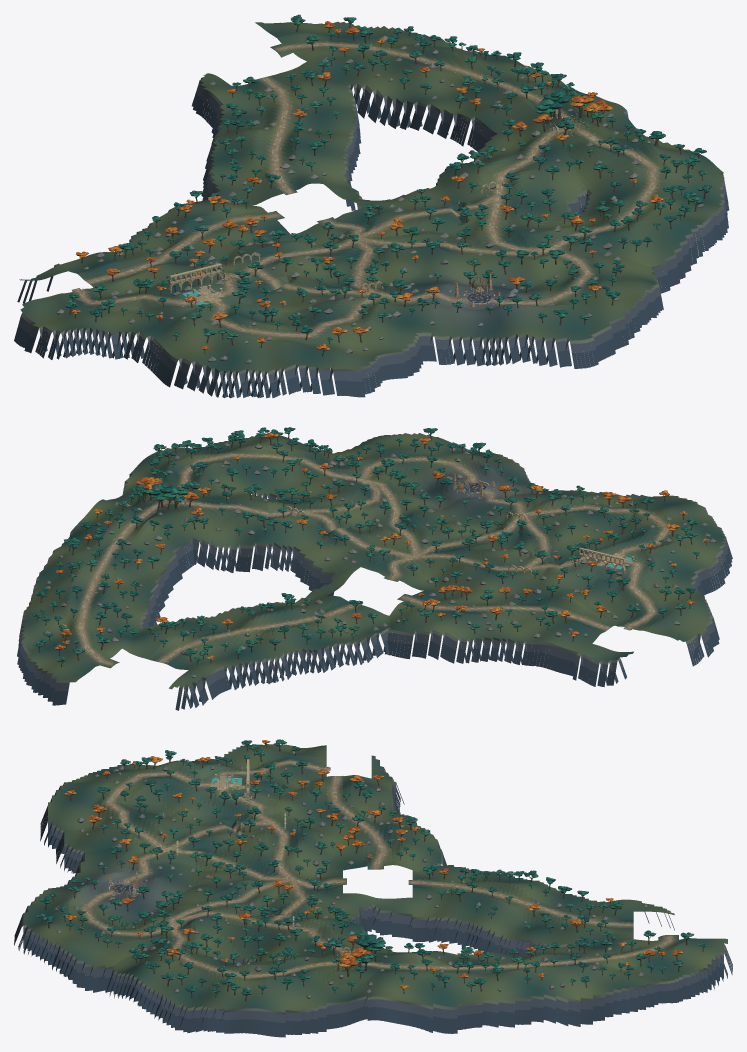
The model's file is outer_land_3.glb.
3 views of the same model, one above another, from view 1: azimuth 30°, elevation 25°; view 2: azimuth 150°, elevation 25°; view 3: azimuth 270°, elevation 25° (orthographic). The views are drawn at different scales.
Parts seen in each view (by area): view 1: Ground_14_14-col, Ground_5_15-col, Ground_14_12-col, Detail_3_12, Ground_14_11-col, Ground_9_15-col, Ground_11_16-col, Ground_10_13-col, Ground_12_11-col, Ground_10_16-col, Ground_8_15-col, Detail_10_16 (+110 smaller); view 2: Detail_12_10, Ground_13_10-col, Ground_14_8-col, Detail_6_9, Detail_8_8, Ground_5_11-col, Ground_14_13-col, Detail_9_7, Detail_5_9, Ground_14_9-col, Detail_4_9, Ground_6_11-col (+116 smaller); view 3: Detail_16_12, Detail_15_5, Detail_16_11, Detail_16_13, Detail_16_8, Ground_15_6-col, Detail_16_7, Ground_11_7-col, Detail_16_10, Ground_6_14-col, Detail_11_8, Ground_13_15-col (+109 smaller).
Part boxes in pixels (x1=…): Ground_14_14-col: x1=617, y1=206, x2=688, y2=255; Ground_5_15-col: x1=212, y1=333, x2=286, y2=371; Ground_14_12-col: x1=558, y1=159, x2=633, y2=214; Detail_3_12: x1=35, y1=302, x2=106, y2=359; Ground_14_11-col: x1=532, y1=138, x2=605, y2=180; Ground_9_15-col: x1=403, y1=301, x2=477, y2=336; Ground_11_16-col: x1=526, y1=298, x2=600, y2=337; Ground_10_13-col: x1=395, y1=246, x2=468, y2=282; Ground_12_11-col: x1=435, y1=167, x2=508, y2=214; Ground_10_16-col: x1=478, y1=304, x2=552, y2=339; Ground_8_15-col: x1=356, y1=305, x2=427, y2=343; Detail_10_16: x1=477, y1=295, x2=544, y2=365; Detail_12_10: x1=246, y1=516, x2=302, y2=577; Ground_13_10-col: x1=204, y1=507, x2=270, y2=547; Ground_14_8-col: x1=115, y1=528, x2=175, y2=573; Detail_6_9: x1=475, y1=612, x2=540, y2=665; Detail_8_8: x1=372, y1=612, x2=429, y2=659; Ground_5_11-col: x1=565, y1=587, x2=631, y2=622; Ground_14_13-col: x1=235, y1=447, x2=300, y2=489; Detail_9_7: x1=302, y1=621, x2=363, y2=672; Detail_5_9: x1=528, y1=631, x2=576, y2=675; Ground_14_9-col: x1=138, y1=511, x2=203, y2=548; Detail_4_9: x1=571, y1=651, x2=626, y2=687; Ground_6_11-col: x1=525, y1=573, x2=588, y2=609; Detail_16_12: x1=227, y1=967, x2=279, y2=1036; Detail_15_5: x1=572, y1=961, x2=625, y2=1026; Detail_16_11: x1=277, y1=968, x2=330, y2=1037; Detail_16_13: x1=179, y1=974, x2=230, y2=1033; Detail_16_8: x1=425, y1=976, x2=476, y2=1033; Ground_15_6-col: x1=523, y1=966, x2=572, y2=999; Detail_16_7: x1=474, y1=979, x2=523, y2=1027; Ground_11_7-col: x1=474, y1=896, x2=523, y2=929; Detail_16_10: x1=326, y1=982, x2=375, y2=1029; Ground_6_14-col: x1=130, y1=778, x2=178, y2=811; Detail_11_8: x1=425, y1=888, x2=475, y2=947; Ground_13_15-col: x1=80, y1=937, x2=129, y2=967.
Size of the model in its own units: 504 by 67.62 by 527.
